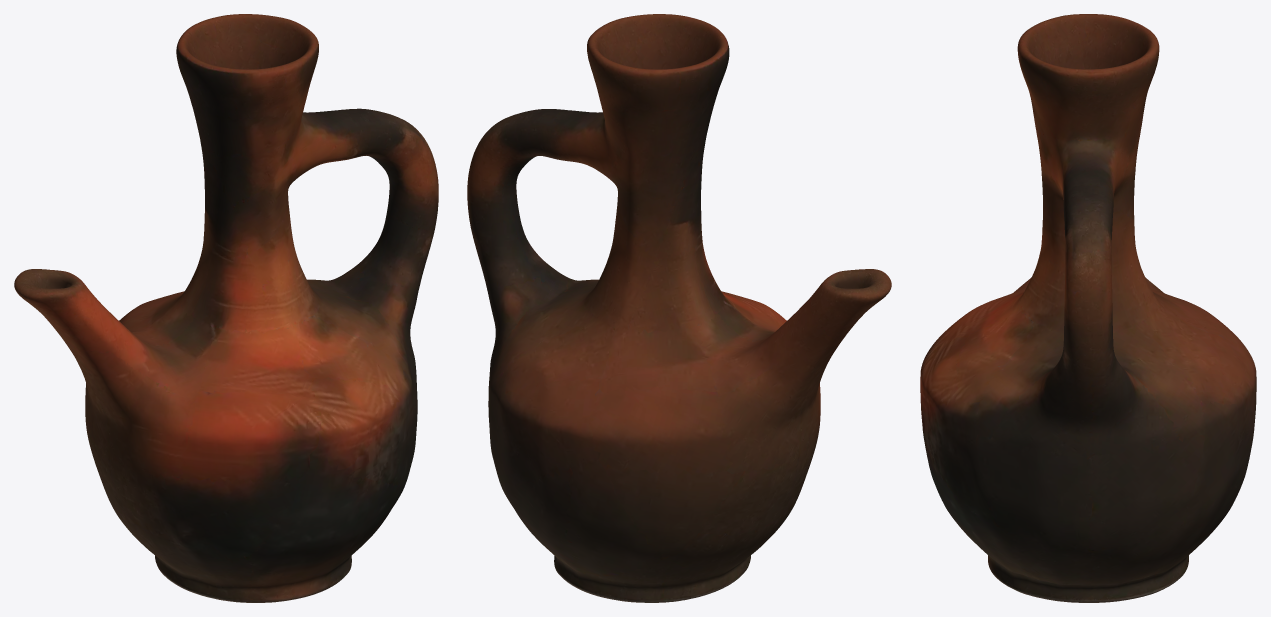
File: clay_vessel.glb
3 renders of one model, left to right at view 1: azimuth 30°, elevation 25°; view 2: azimuth 150°, elevation 25°; view 3: azimuth 270°, elevation 25°, orthographic.
Parts seen in each view (by area): view 1: Meshy_AI_Burnished_Clay_Vessel_0919172142_texture; view 2: Meshy_AI_Burnished_Clay_Vessel_0919172142_texture; view 3: Meshy_AI_Burnished_Clay_Vessel_0919172142_texture.
Part boxes in pixels (<box>): Meshy_AI_Burnished_Clay_Vessel_0919172142_texture: <box>14,14,438,602</box>; Meshy_AI_Burnished_Clay_Vessel_0919172142_texture: <box>467,14,891,602</box>; Meshy_AI_Burnished_Clay_Vessel_0919172142_texture: <box>920,14,1256,602</box>.
Bounding box in the file's own units: 1.58 × 1.9 × 1.11.
1 material, 1 textured.
